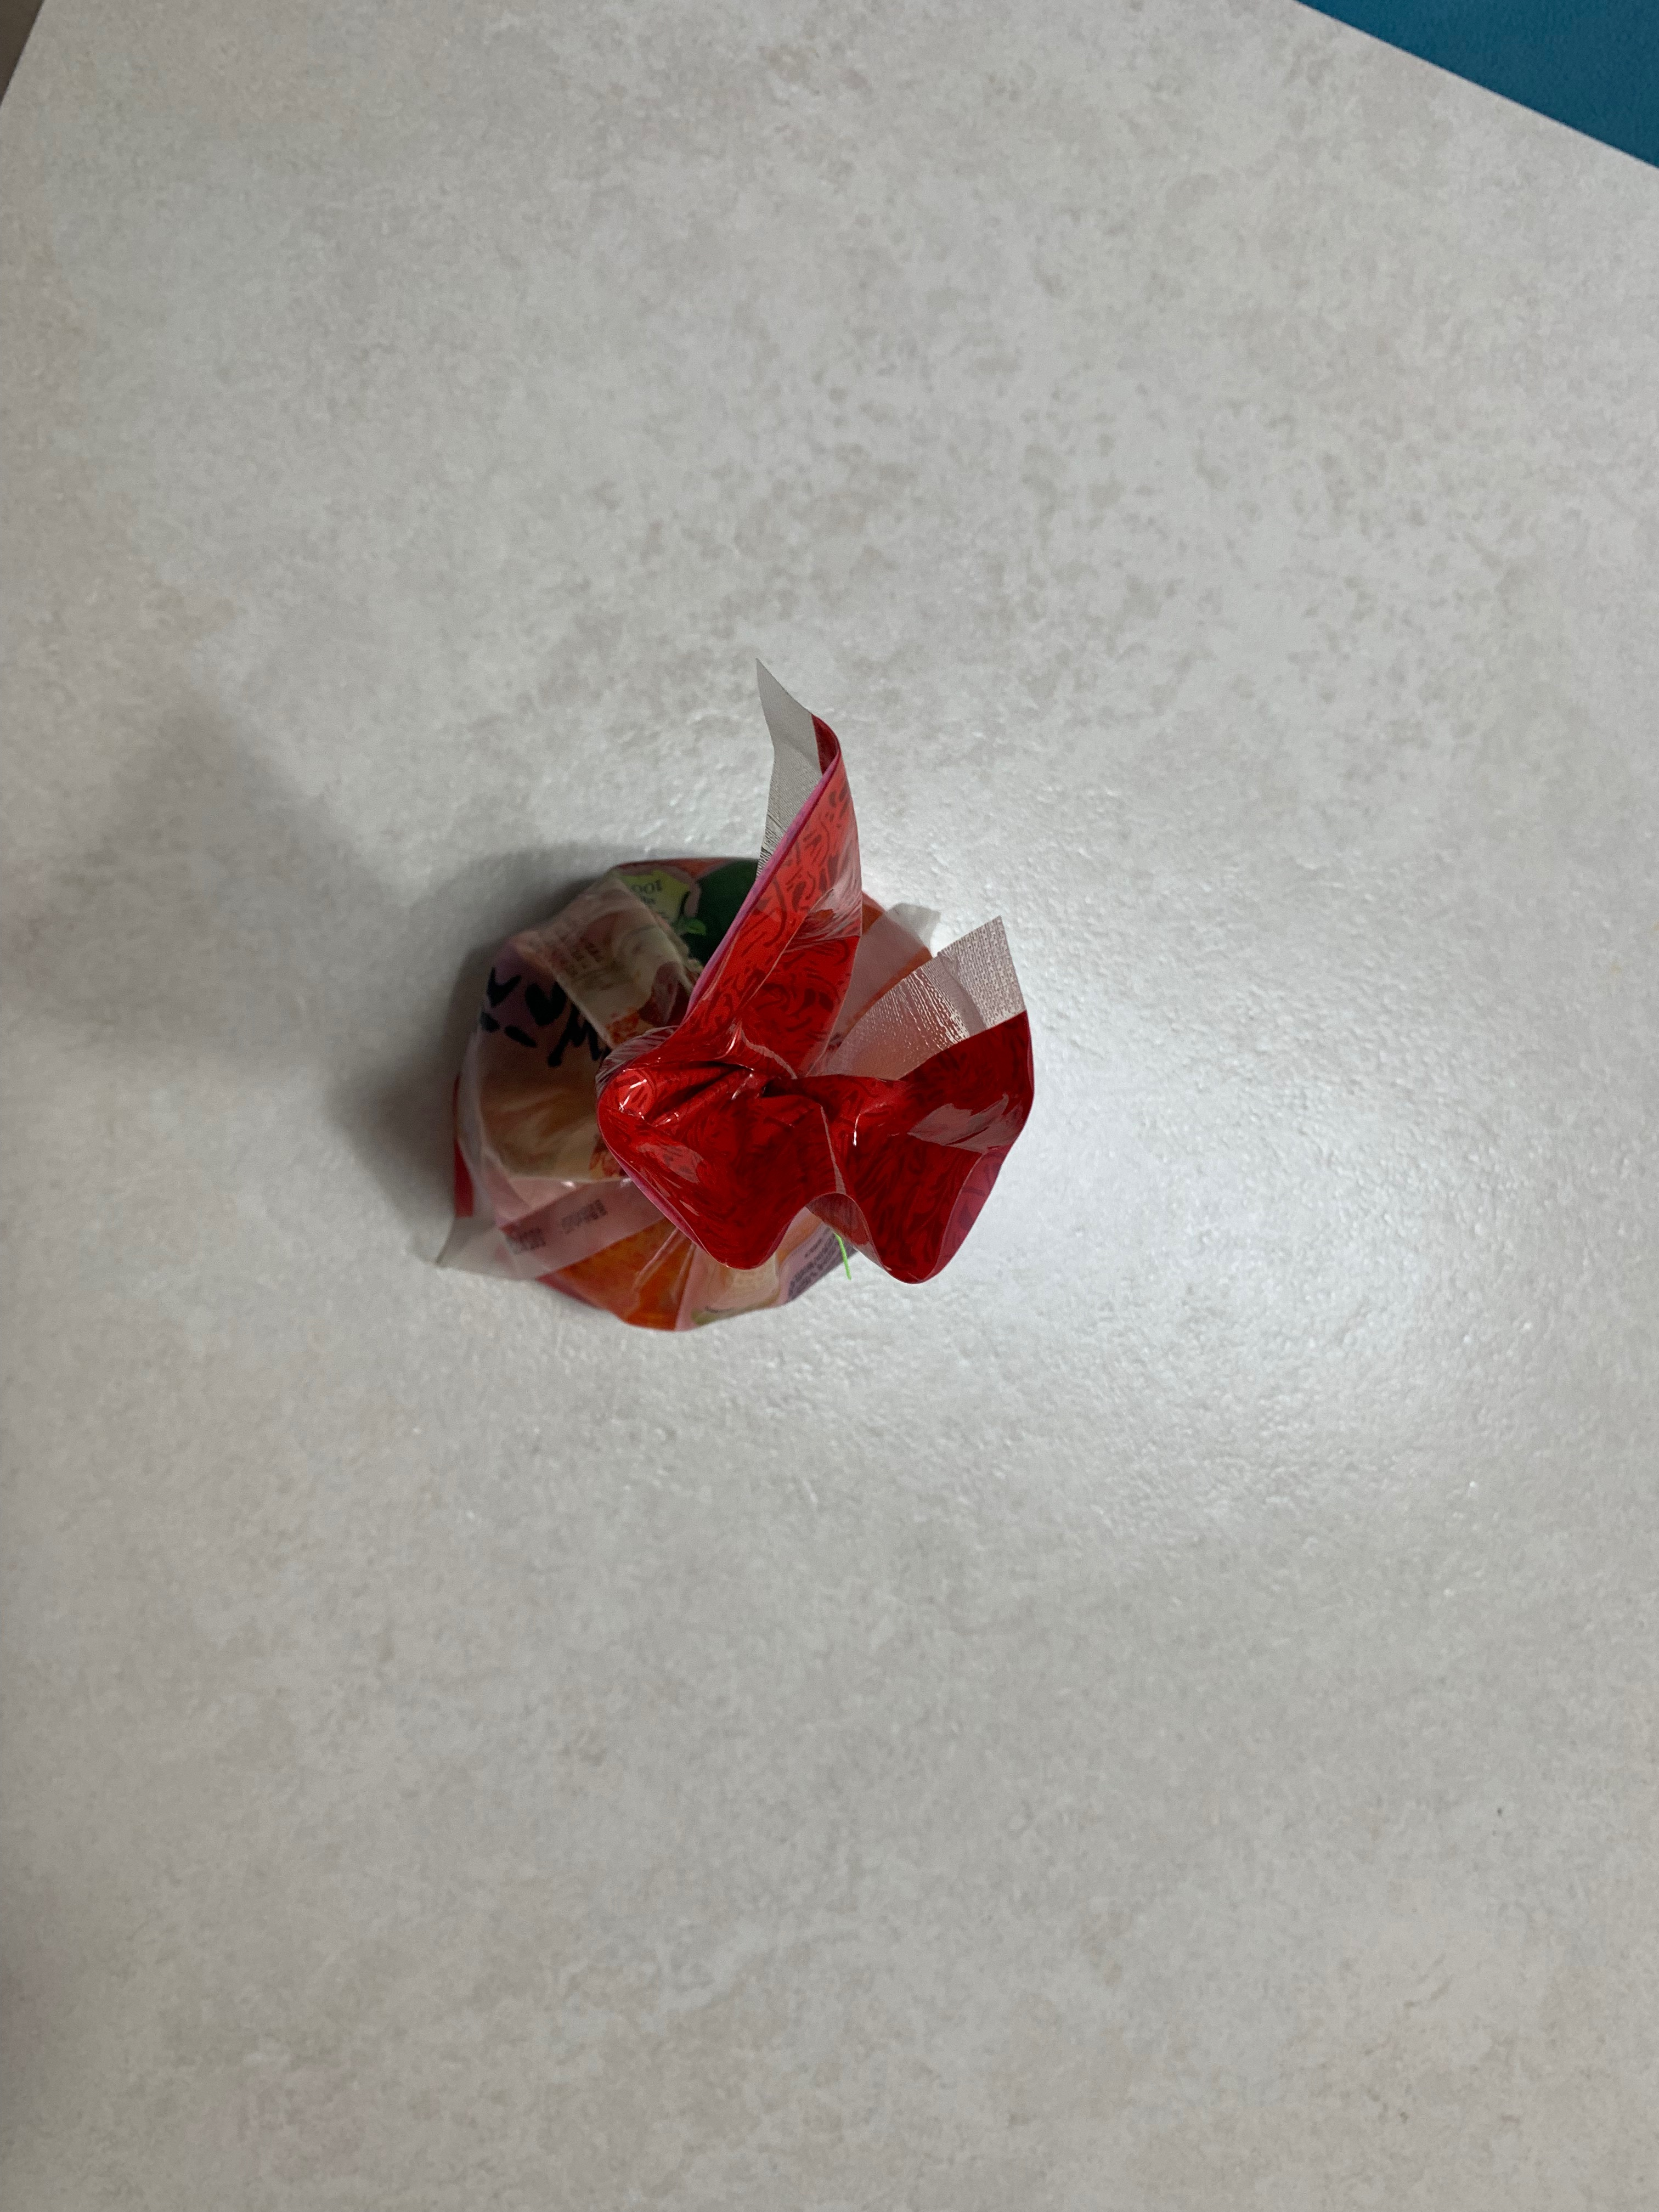kimchi: (457, 672, 1032, 1331)
